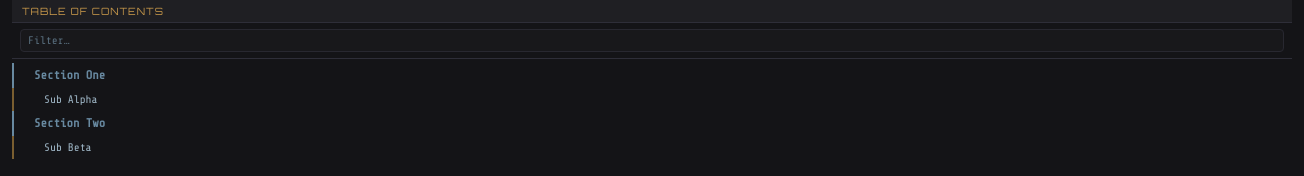
Test case: TocPanel › filters headings by query
The image size is (1304, 176).
Type "alpha" into the field with placeholder "Filter…".
click(652, 40); type("alpha")  # box x1=20 y1=29 x2=1284 y2=52
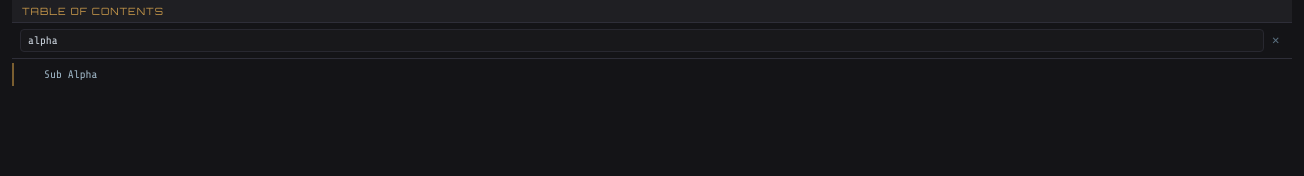
Expected: the button "Sub Alpha" is shown, x1=12 y1=63 x2=1292 y2=86
Expected: the button "Section One" is gone
Expected: the button "Sub Beta" is gone
